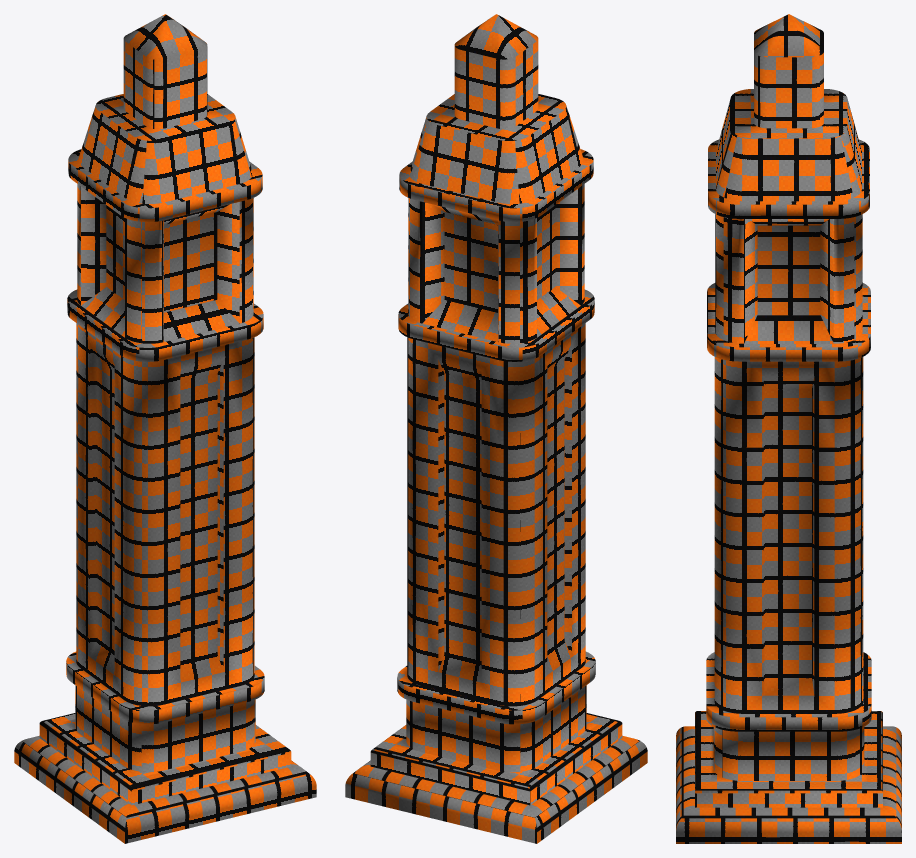
The model's file is tower.gltf.
3 views of the same model, side by side, from view 1: azimuth 30°, elevation 25°; view 2: azimuth 150°, elevation 25°; view 3: azimuth 270°, elevation 25° (orthographic). The views are drawn at different scales.
Visible parts, largest first — view 1: Cube; view 2: Cube; view 3: Cube.
Part boxes in pixels (x1,y1,x2,y2): Cube: (14,14,316,843); Cube: (345,14,647,843); Cube: (676,14,901,843).
Bounding box in the file's own units: 14.4 × 55 × 14.4.
Materials: 1 (1 with a texture image).
